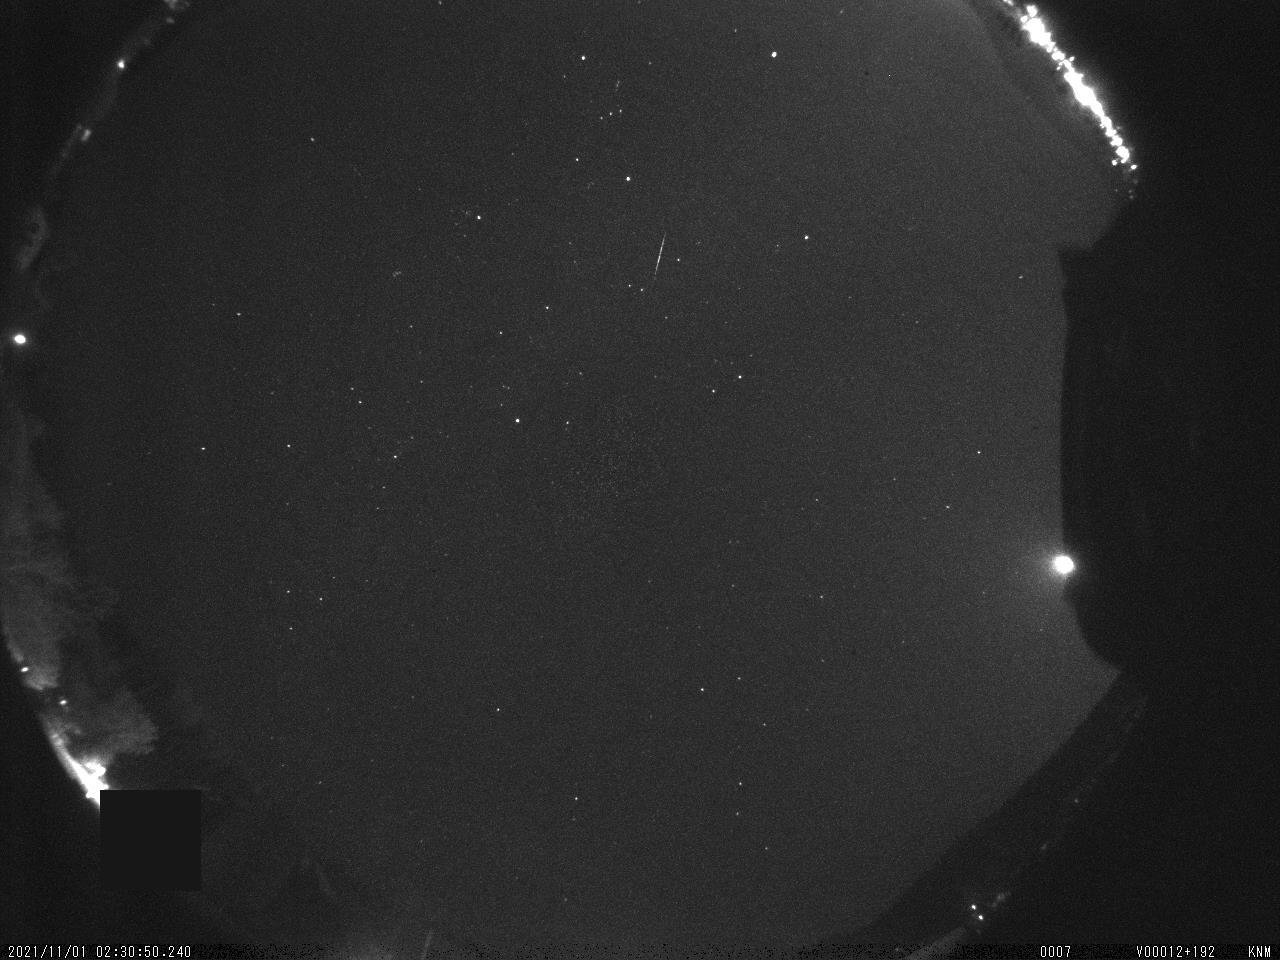meteor: (647, 229, 673, 280)
